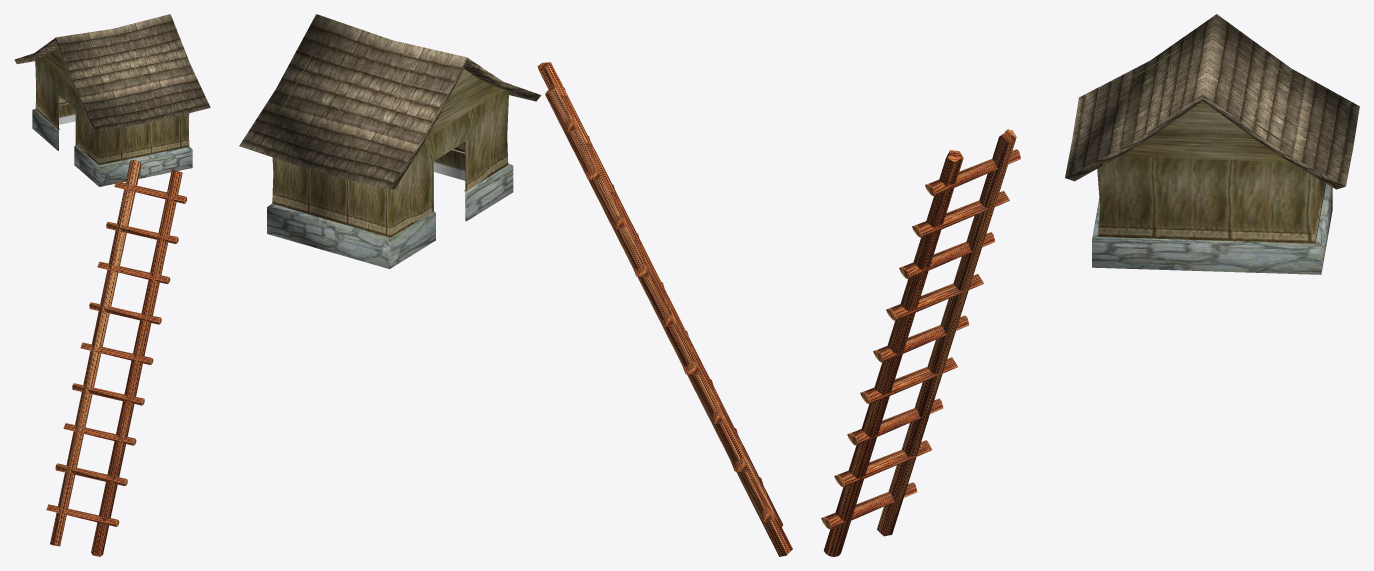
Rendered from lom_model5.fbx.
3 views of the same model, side by side, from view 1: azimuth 30°, elevation 25°; view 2: azimuth 150°, elevation 25°; view 3: azimuth 270°, elevation 25° (orthographic). The views are drawn at different scales.
Visible parts, largest first — view 1: chatka5, zebrik5; view 2: chatka5, zebrik5; view 3: chatka5, zebrik5.
Part boxes in pixels (bbox=[...]): chatka5: bbox=[14, 14, 210, 186]; zebrik5: bbox=[46, 160, 186, 556]; chatka5: bbox=[239, 14, 541, 268]; zebrik5: bbox=[537, 62, 792, 556]; chatka5: bbox=[1065, 14, 1359, 274]; zebrik5: bbox=[821, 129, 1020, 556].
Size of the model in its own units: 102 by 170 by 137.
Materials: 2 (2 with a texture image).
